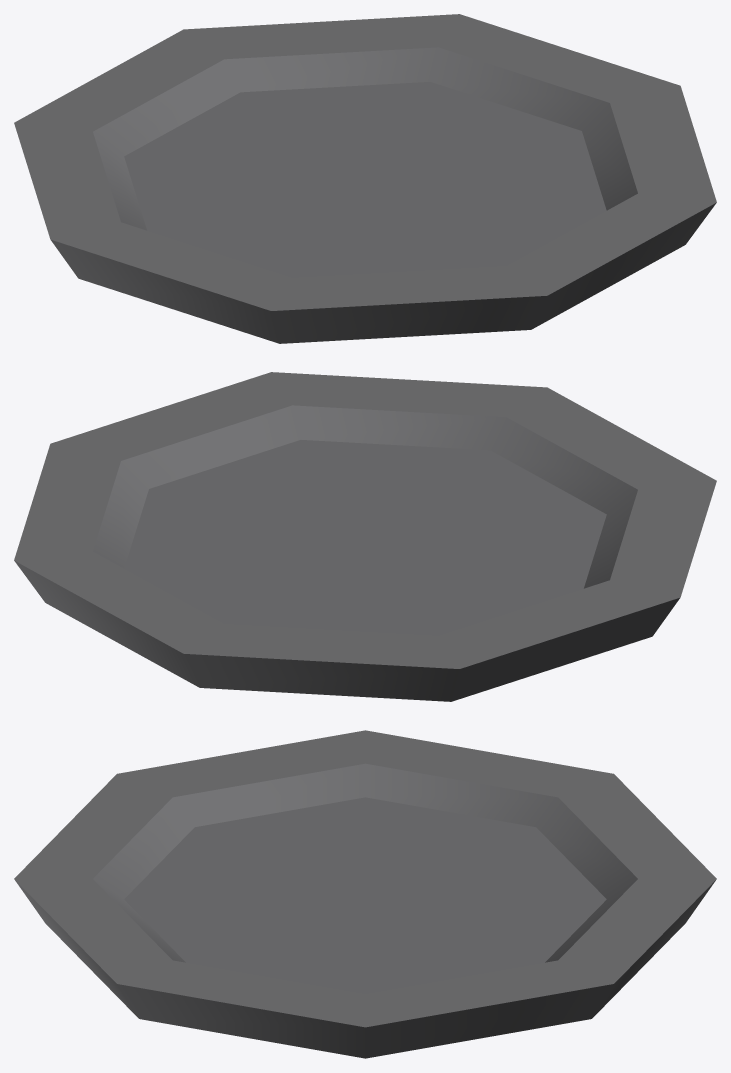
Rendered from Plate_1_B.fbx.
The picture shows the model from 3 angles, top to bottom: view 1: azimuth 30°, elevation 25°; view 2: azimuth 150°, elevation 25°; view 3: azimuth 270°, elevation 25°; orthographic projection. The views are drawn at different scales.
Visible parts, largest first — view 1: Plate_1_B; view 2: Plate_1_B; view 3: Plate_1_B.
Part boxes in pixels (box(x1,y1,x2,y2)): Plate_1_B: box(14, 14, 716, 343); Plate_1_B: box(14, 372, 716, 701); Plate_1_B: box(14, 730, 716, 1058).
Size of the model in its own units: 38.95 by 2.72 by 38.95.
